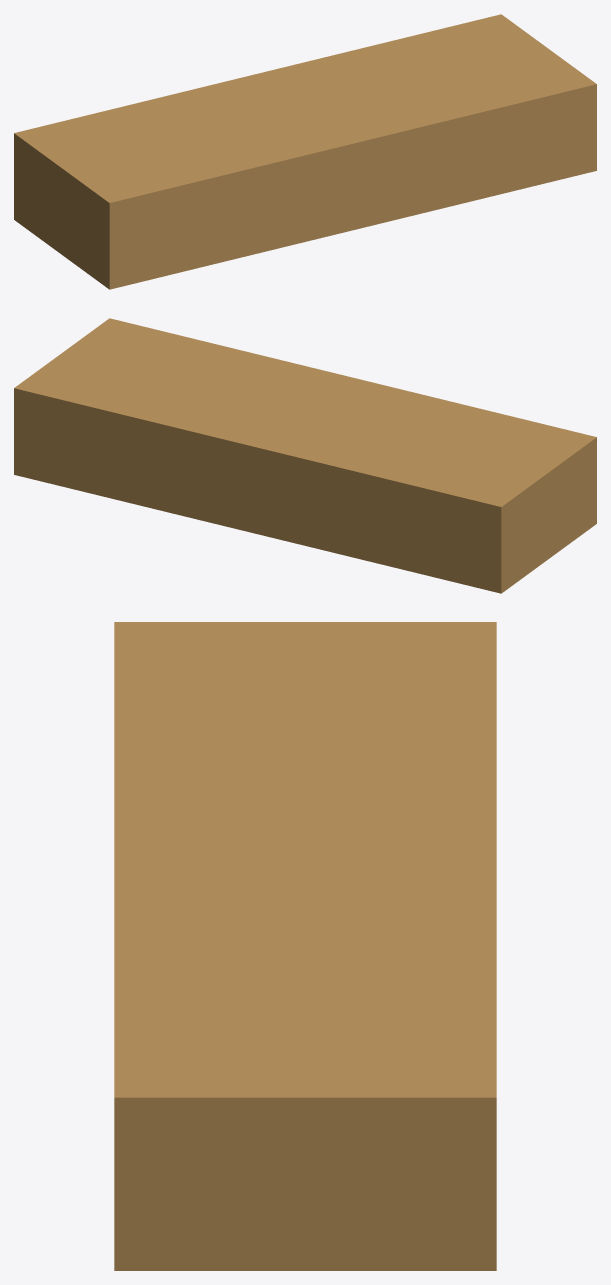
The picture shows the model from 3 angles, top to bottom: view 1: azimuth 30°, elevation 25°; view 2: azimuth 150°, elevation 25°; view 3: azimuth 270°, elevation 25°; orthographic projection. The views are drawn at different scales.
Parts seen in each view (by area): view 1: RUN-039-S00-NOG-00; view 2: RUN-039-S00-NOG-00; view 3: RUN-039-S00-NOG-00.
Part boxes in pixels (x1=…): RUN-039-S00-NOG-00: x1=14, y1=14, x2=596, y2=289; RUN-039-S00-NOG-00: x1=14, y1=318, x2=596, y2=593; RUN-039-S00-NOG-00: x1=114, y1=622, x2=496, y2=1270.
Size of the model in its own units: 0.265 by 0.045 by 0.09.
